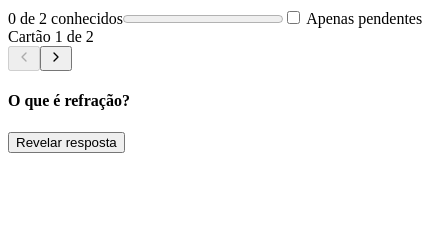
Test: restores the selected question and progress from JSON, with the answer hidden again
This screenshot has width=439, height=244.
Later steps or results of the test are not shown.
Expected: the button "Explorar no chat" is not shown
Click the button named "Próximo cartão": (56, 58) top-left (40, 46), bottom-right (72, 71)
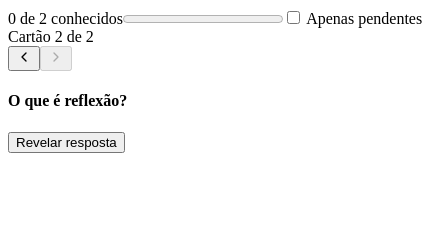
Click the button "Revelar resposta": (66, 142) top-left (8, 132), bottom-right (125, 152)
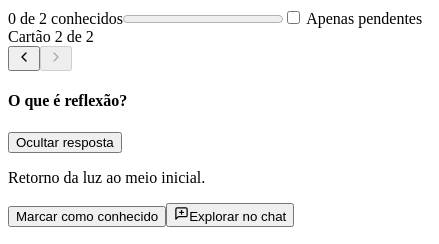
Result: the text "Retorno da luz ao meio inicial." is shown at top-left (8, 168), bottom-right (205, 186)
